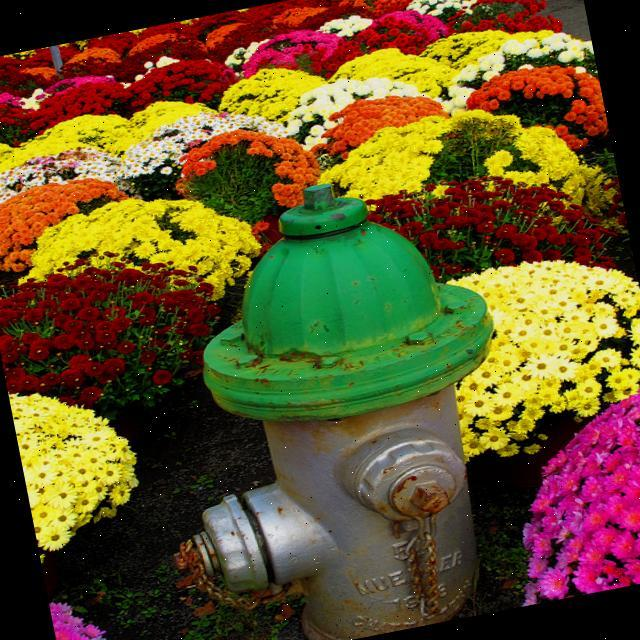fire_hydrant: (130, 152, 551, 640)
